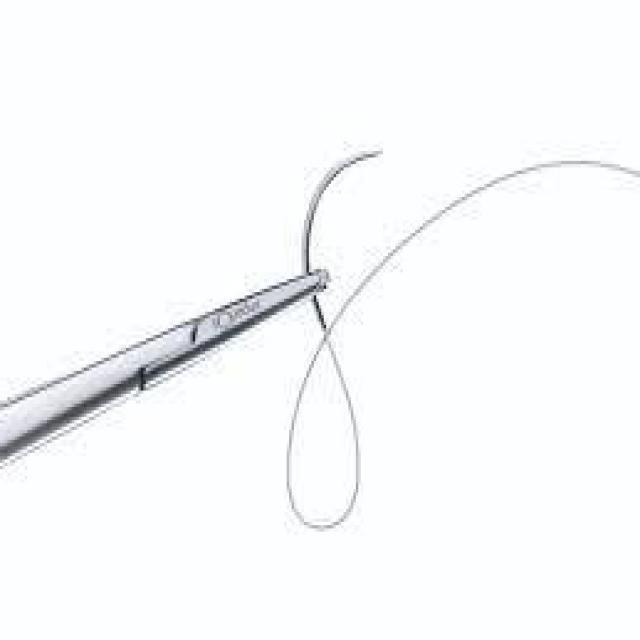Castroviejo: (2, 262, 336, 460)
Needle: (299, 138, 393, 338)
